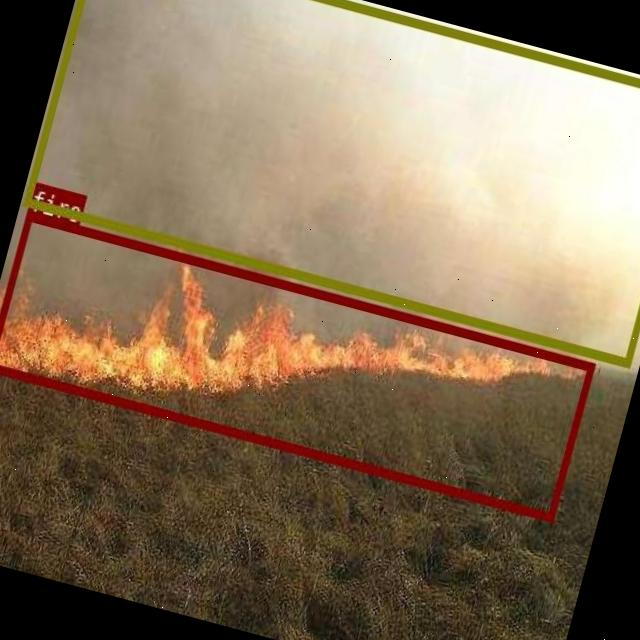fire: (0, 209, 594, 520)
smoke: (21, 0, 640, 366)
